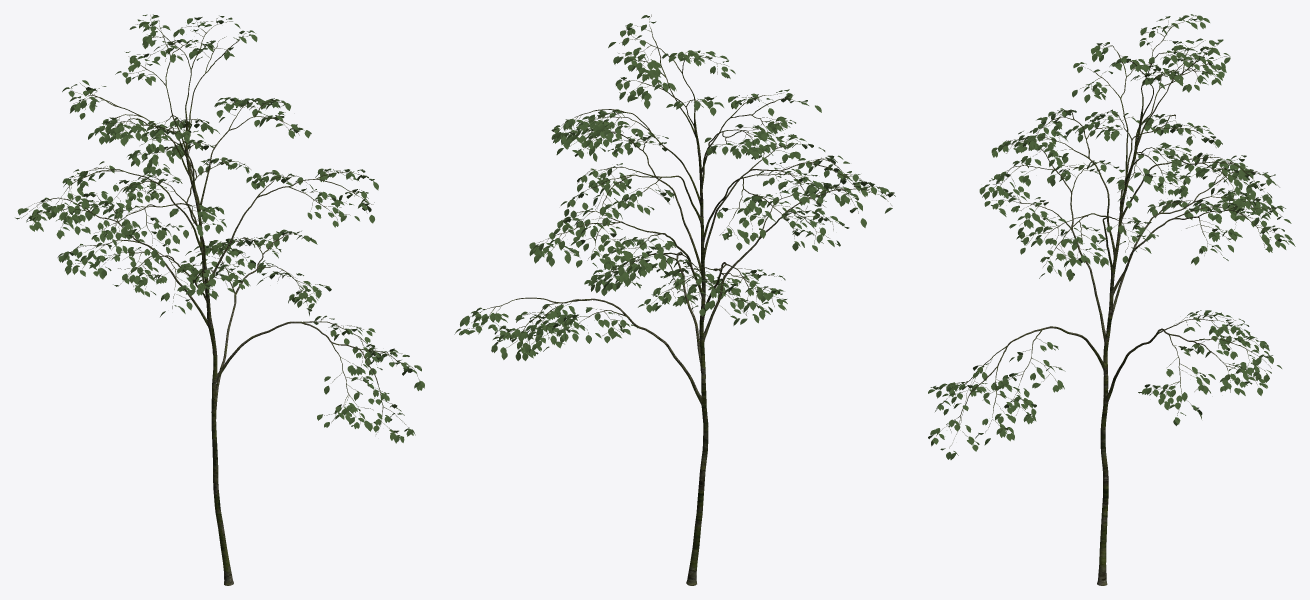
The model's file is garden_forest_bush_01.glb.
The picture shows the model from 3 angles, left to right: view 1: azimuth 30°, elevation 25°; view 2: azimuth 150°, elevation 25°; view 3: azimuth 270°, elevation 25°; orthographic projection. The views are drawn at different scales.
Parts seen in each view (by area): view 1: garden_forest_bush_01__lod0; view 2: garden_forest_bush_01__lod0; view 3: garden_forest_bush_01__lod0.
Part boxes in pixels (left/top/right/bottom): garden_forest_bush_01__lod0: left=15, top=14, right=424, bottom=585; garden_forest_bush_01__lod0: left=454, top=14, right=895, bottom=585; garden_forest_bush_01__lod0: left=928, top=14, right=1295, bottom=585.
Size of what is drawn, in the model's own units: 1.51 by 2.57 by 1.56.
Materials: 2 (2 with a texture image).
